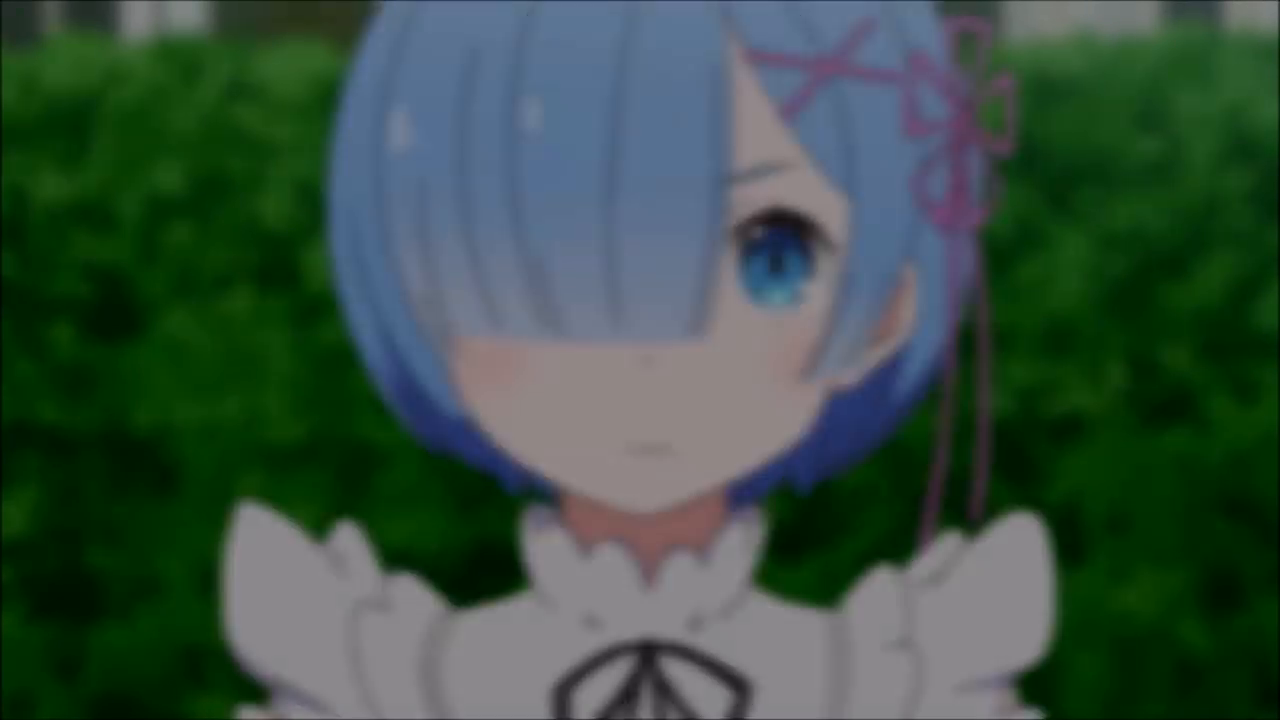REM: (330, 2, 981, 514)
